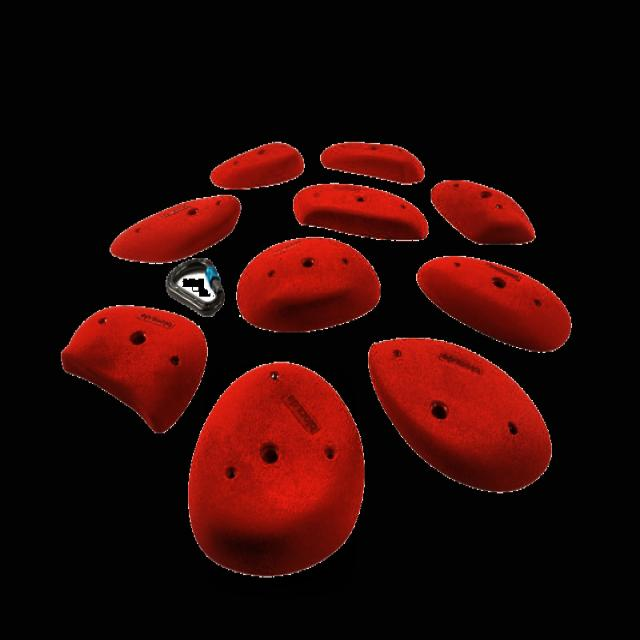Hold: (187, 372, 369, 582), (372, 332, 557, 501), (62, 289, 203, 432), (234, 236, 380, 346), (420, 258, 575, 348), (109, 186, 247, 265), (295, 183, 431, 243), (428, 177, 535, 245), (313, 135, 429, 191), (209, 135, 308, 189)
